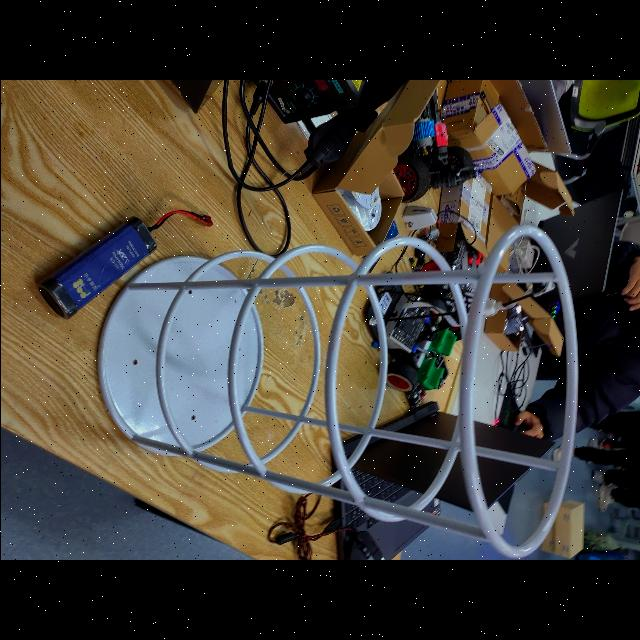S: (89, 246, 581, 556)
